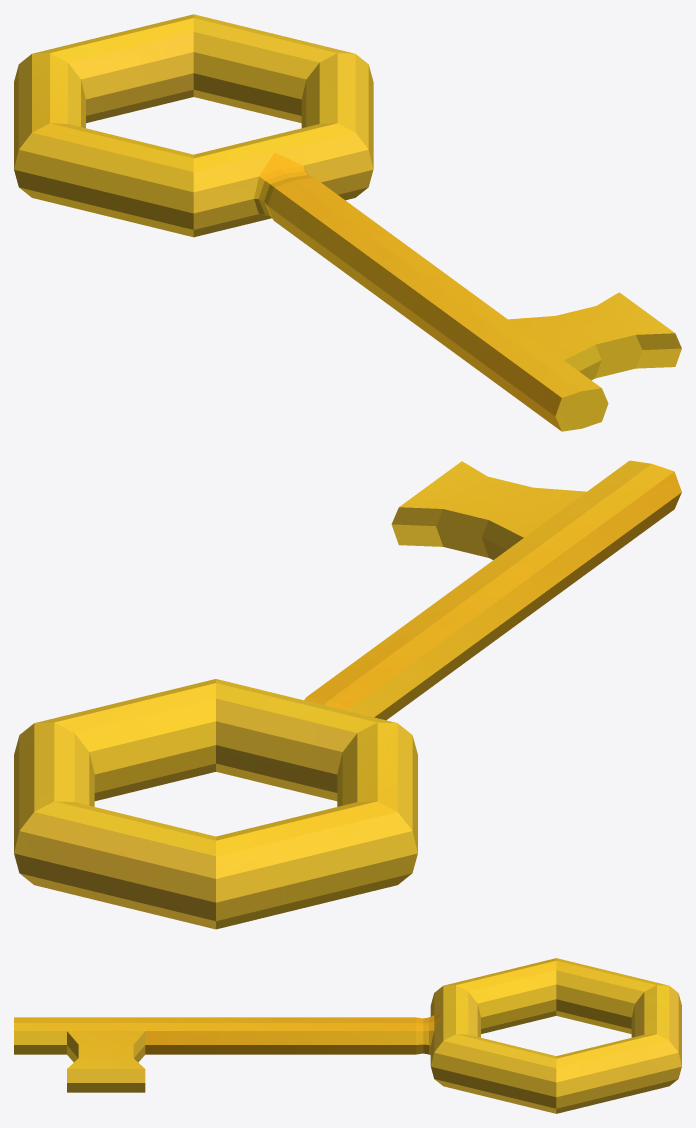
The model's file is Key.fbx.
3 views of the same model, one above another, from view 1: azimuth 30°, elevation 25°; view 2: azimuth 150°, elevation 25°; view 3: azimuth 270°, elevation 25° (orthographic). The views are drawn at different scales.
Parts seen in each view (by area): view 1: Key; view 2: Key; view 3: Key.
Boxes of the visible parts, box(x1,y1,x2,y2) form: Key: box(14, 14, 681, 431); Key: box(14, 460, 681, 929); Key: box(14, 958, 681, 1113).
Size of the model in its own units: 23.98 by 4.8 by 55.22.
1 material, 1 textured.
